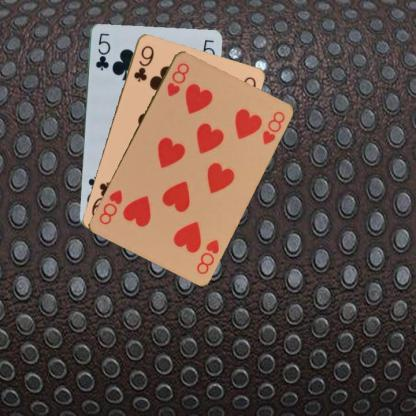5c: (93, 31, 112, 71)
8h: (194, 235, 220, 276), (164, 60, 191, 98)
9c: (130, 42, 155, 83)
